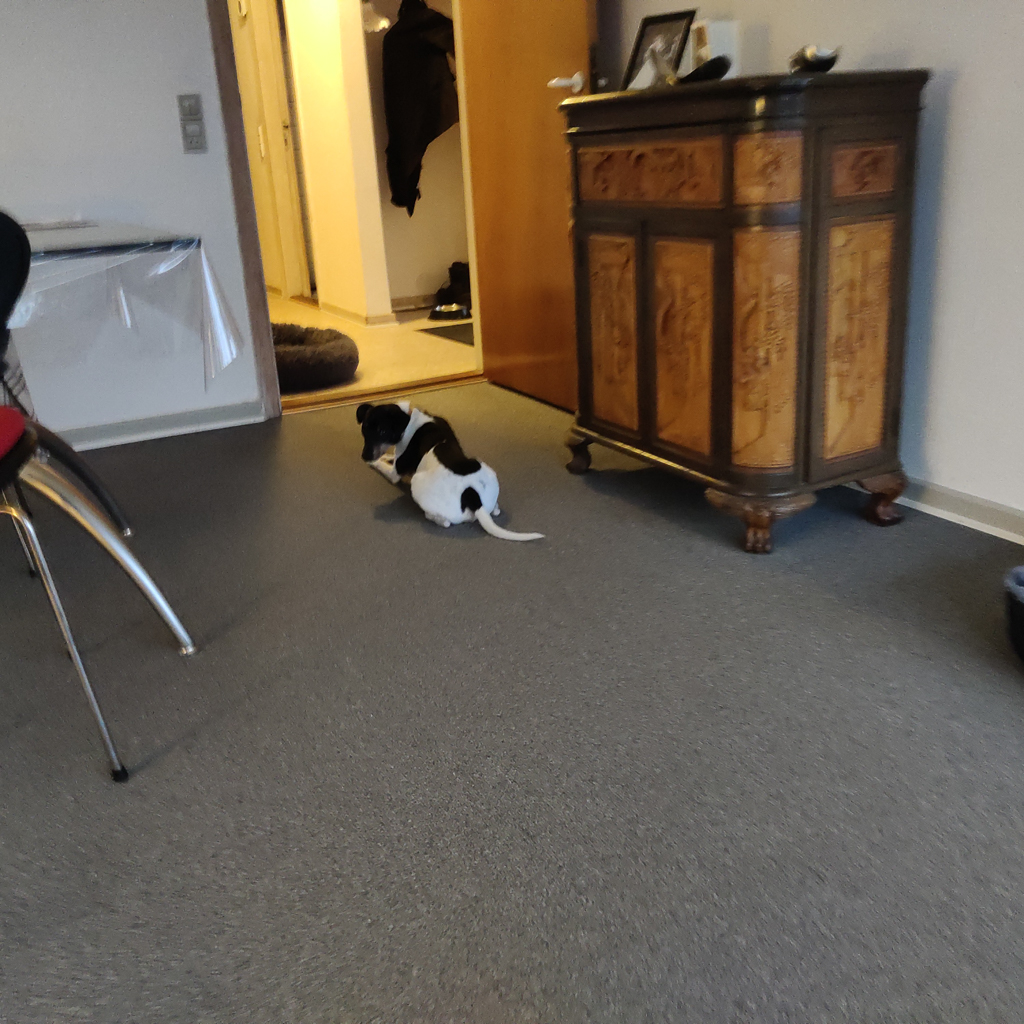Dog: (345, 395, 557, 552)
